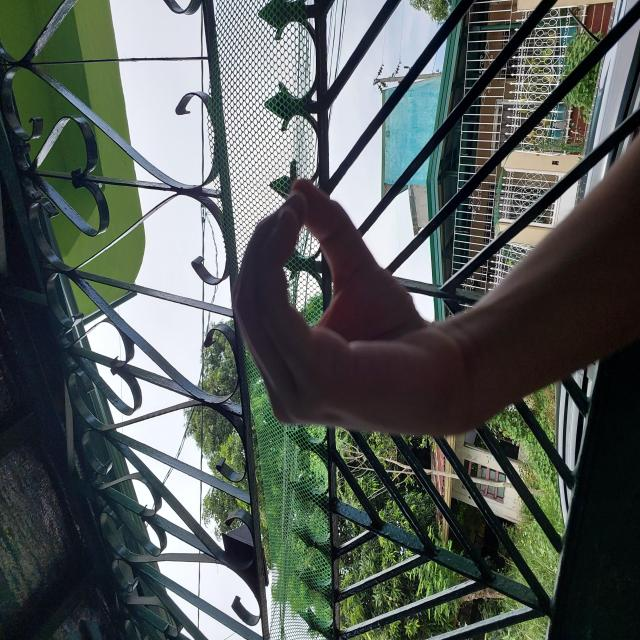O: (201, 229, 463, 466)
